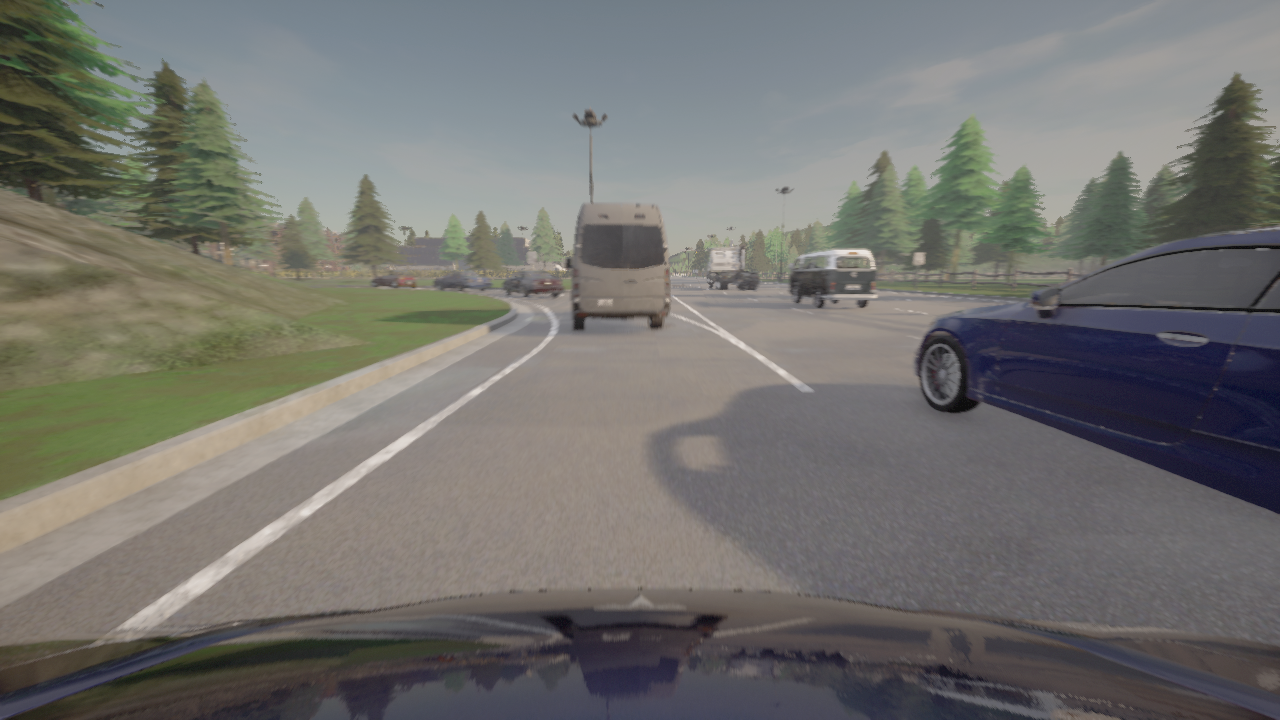cyclist: (0, 588, 1279, 719), (914, 226, 1279, 514), (565, 203, 670, 329), (789, 248, 876, 308), (704, 245, 758, 289), (502, 270, 563, 297), (433, 270, 491, 291), (370, 270, 416, 288)
